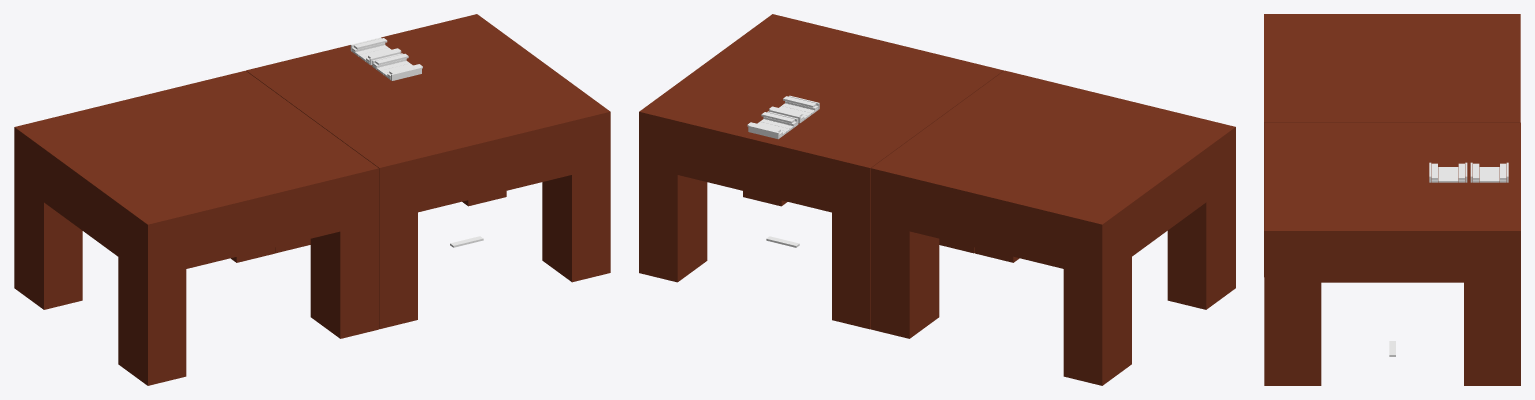
Rendered from keva_housing_stochastic.dae.
3 views of the same model, side by side, from view 1: azimuth 30°, elevation 25°; view 2: azimuth 150°, elevation 25°; view 3: azimuth 270°, elevation 25° (orthographic). The views are drawn at different scales.
Visible parts, largest first — view 1: base (×7); view 2: base (×7); view 3: base (×4).
Boxes of the visible parts, bbox=[...] form: base (×7): bbox=[14, 14, 610, 385]; base (×7): bbox=[639, 14, 1235, 385]; base (×4): bbox=[1264, 14, 1520, 385].
Size of the model in its own units: 1.8 by 0.9009 by 0.6235.
